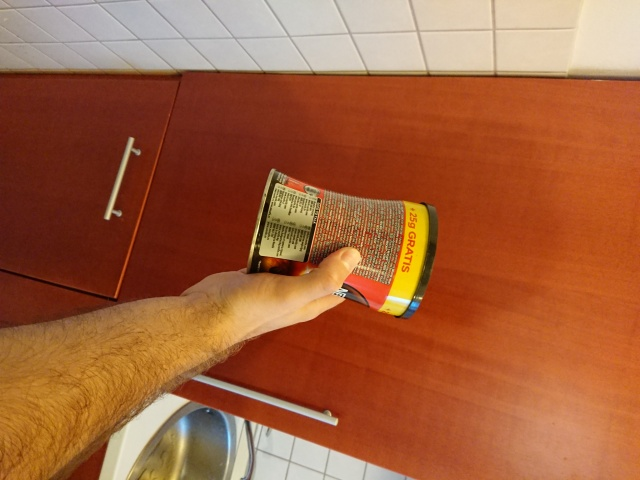Nescafe Classic 225g: (242, 165, 442, 326)
